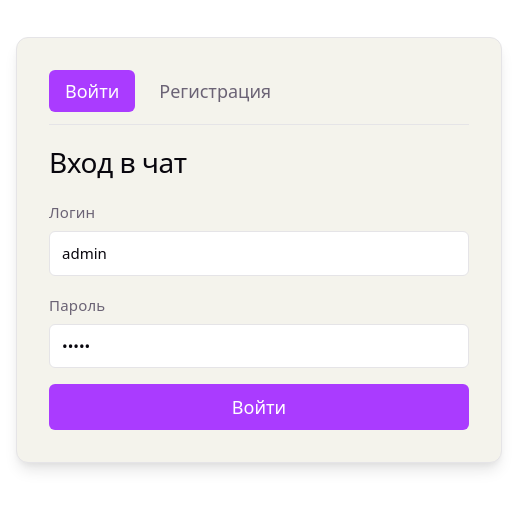
Test: App › login › shows a connection error when the network fails
Click the button "Войти" below "Пароль": (259, 407) [49,384,469,430]
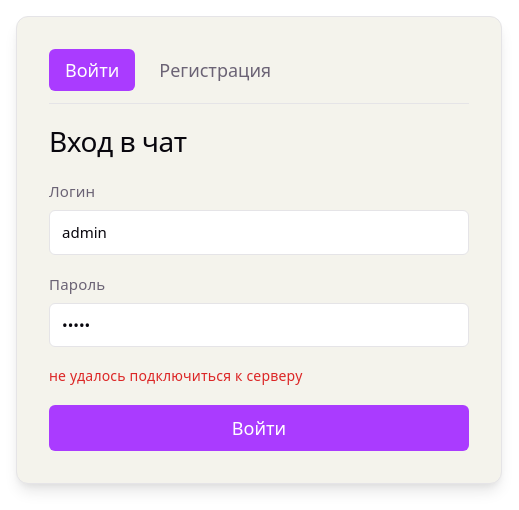
Now the text "не удалось подключиться к серверу" is shown, box [49,366,302,385]
